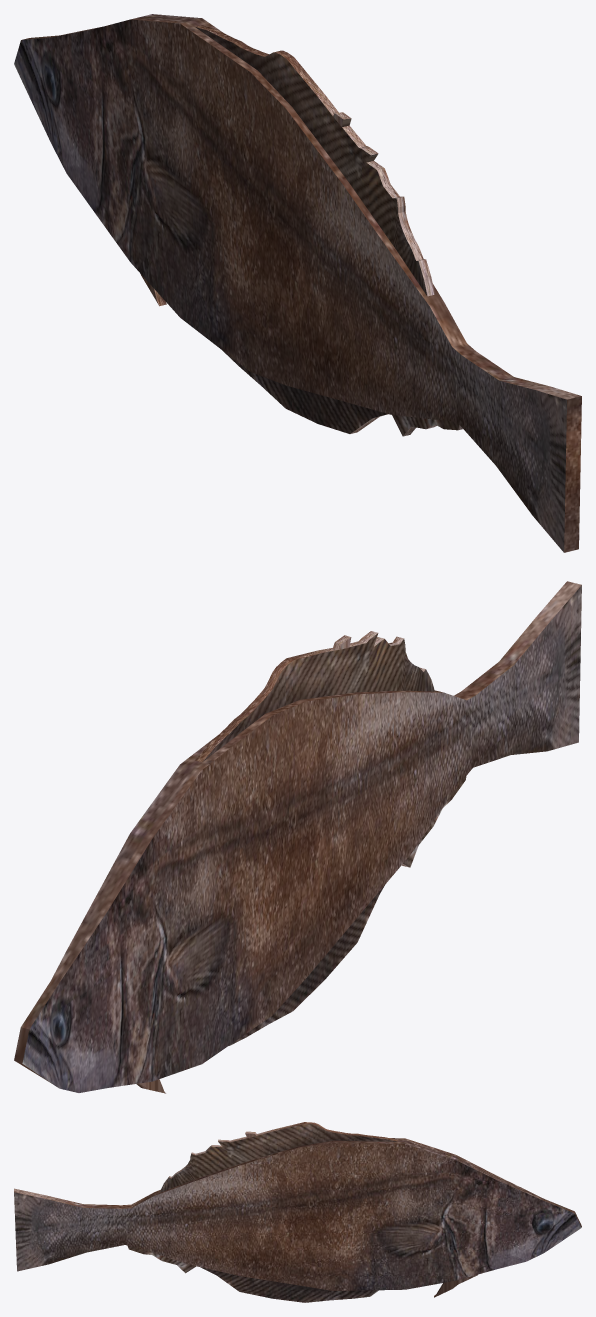
File: FlounderV1.fbx
3 renders of one model, top to bottom at view 1: azimuth 30°, elevation 25°; view 2: azimuth 150°, elevation 25°; view 3: azimuth 270°, elevation 25°, orthographic. The views are drawn at different scales.
Parts seen in each view (by area): view 1: Cube, Cube.001, Cube.002; view 2: Cube, Cube.001, Cube.002; view 3: Cube, Cube.001, Cube.002, Sphere.
Part boxes in pixels (bbox=[...]): Cube: bbox=[14, 14, 581, 552]; Cube.001: bbox=[195, 25, 434, 296]; Cube.002: bbox=[140, 274, 462, 436]; Cube: bbox=[14, 581, 581, 1092]; Cube.001: bbox=[195, 631, 434, 762]; Cube.002: bbox=[136, 776, 466, 1093]; Cube: bbox=[14, 1138, 581, 1290]; Cube.001: bbox=[160, 1122, 397, 1192]; Cube.002: bbox=[127, 1245, 477, 1302]; Sphere: bbox=[532, 1213, 553, 1233].
Bounding box in the file's own units: 0.8478 × 11.94 × 34.36.
